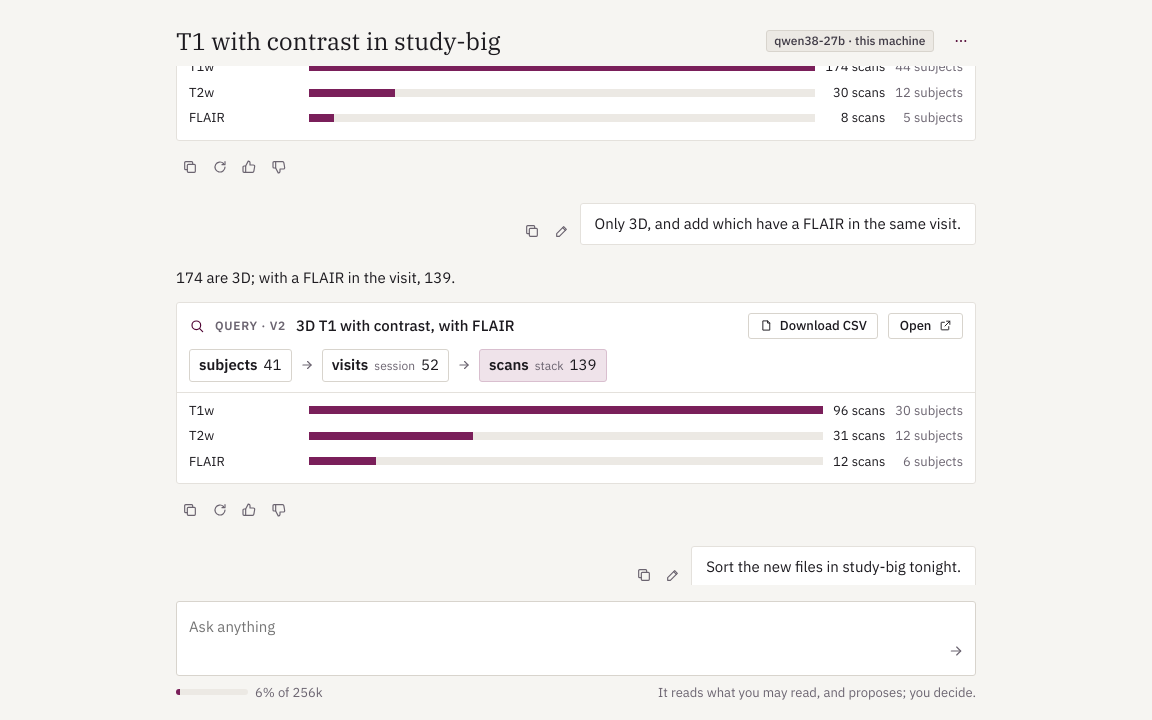
Test: the query panel › keeps a proposed version as the next of the one it was made from, through the assistant's feedback
The width and height of the screenshot is (1152, 720).
(page scrolled)
Click the button "Open" at (926, 326), box [888,313,963,339]
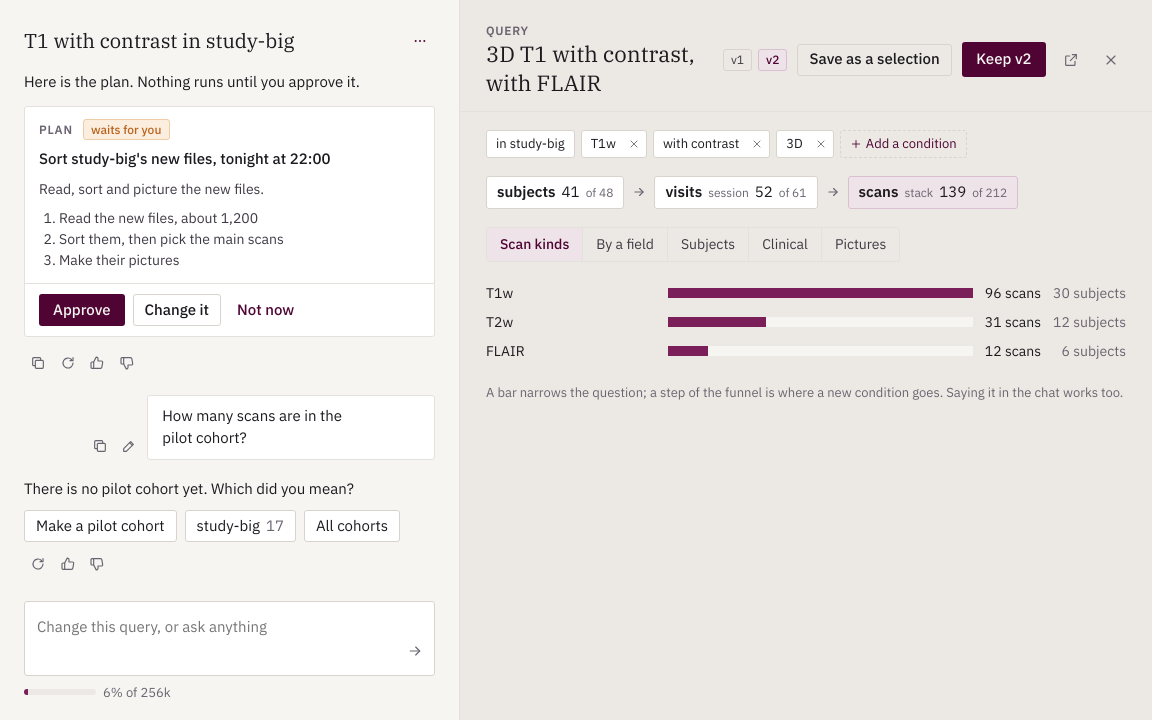
Click the button "Keep v2" at (1004, 60), box [962,42,1046,77]
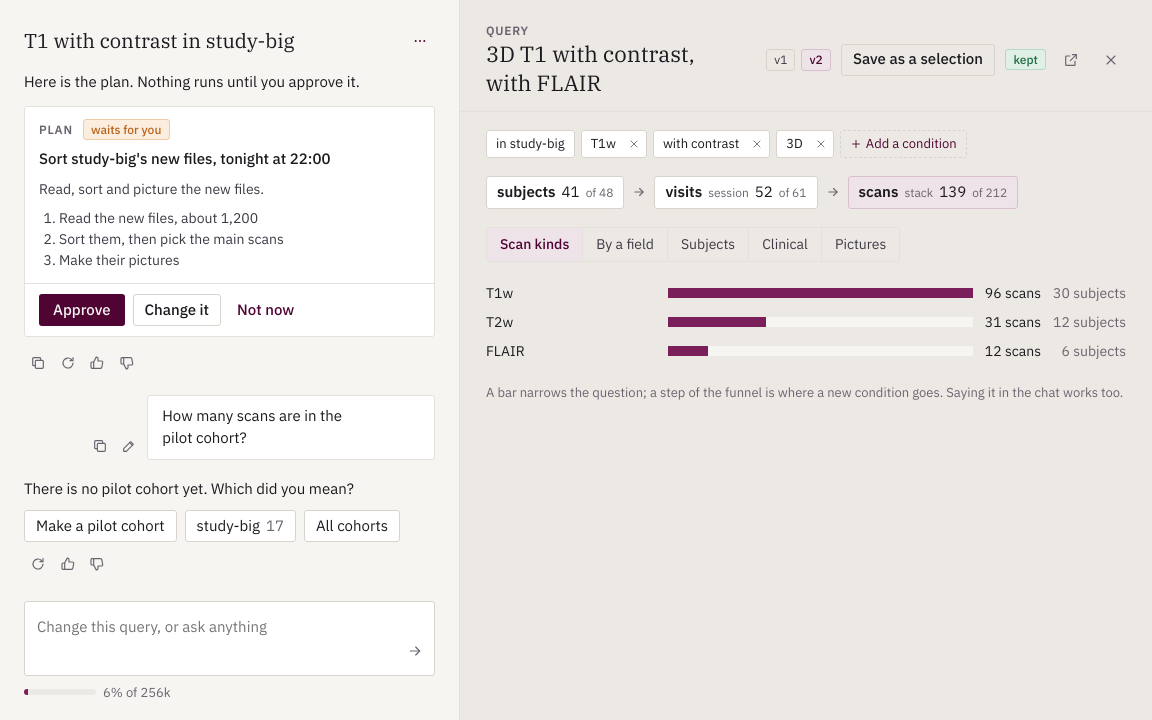
Check: the text with class "tag" reads "kept", box [1013,52,1038,67]
